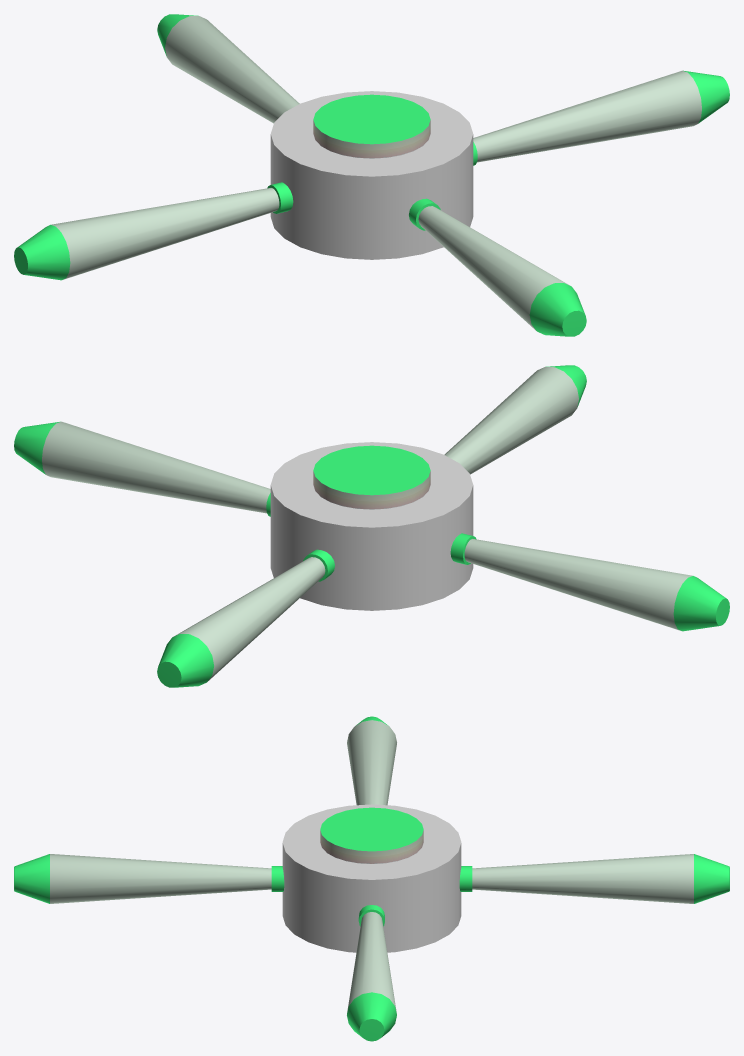
Rendered from Spin Green S.fbx.
3 renders of one model, top to bottom at view 1: azimuth 30°, elevation 25°; view 2: azimuth 150°, elevation 25°; view 3: azimuth 270°, elevation 25°, orthographic. The views are drawn at different scales.
Parts seen in each view (by area): view 1: Spin Green S; view 2: Spin Green S; view 3: Spin Green S.
Part boxes in pixels (box(x1,y1,x2,y2)): Spin Green S: box(14, 14, 729, 336); Spin Green S: box(14, 365, 729, 687); Spin Green S: box(14, 716, 729, 1041).
Size of the model in its own units: 290 by 44.25 by 290.
